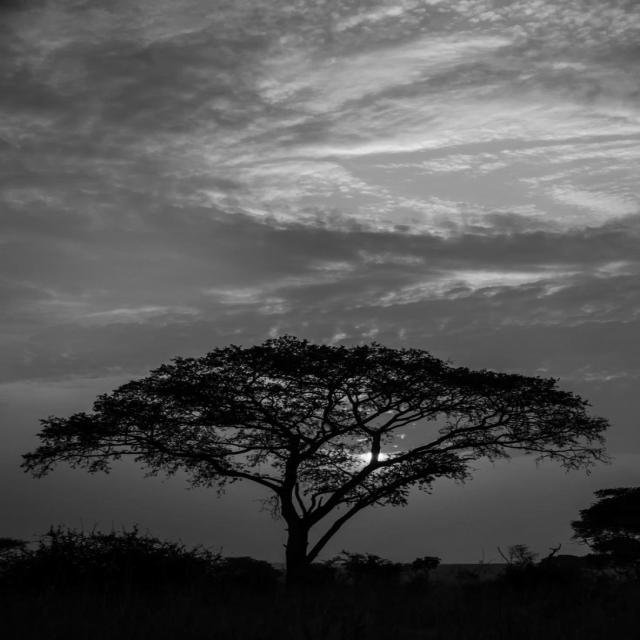Acacia: (22, 335, 597, 561)
